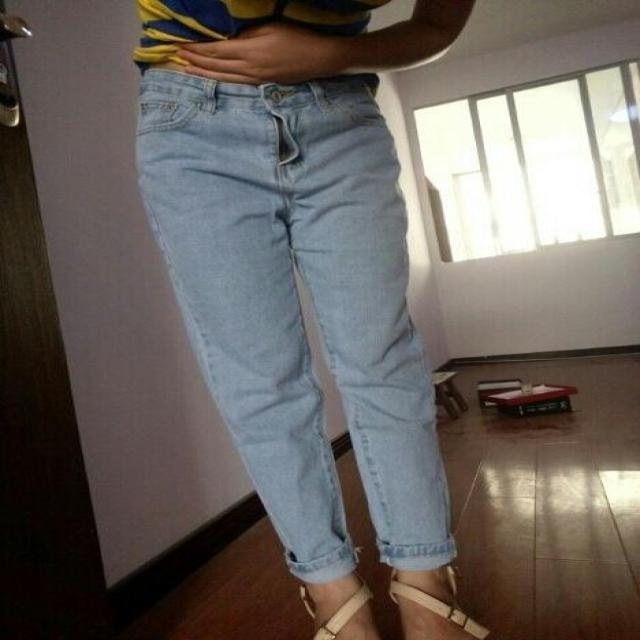short sleeve top: (139, 3, 386, 80)
trousers: (142, 69, 453, 578)
